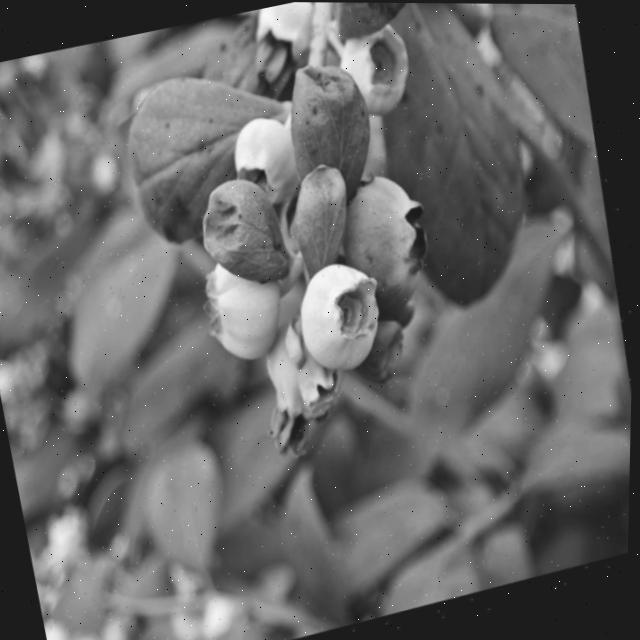Semi-RipeBlueBerry: (330, 163, 452, 324)
UnripeBlueBerry: (287, 250, 402, 385)
